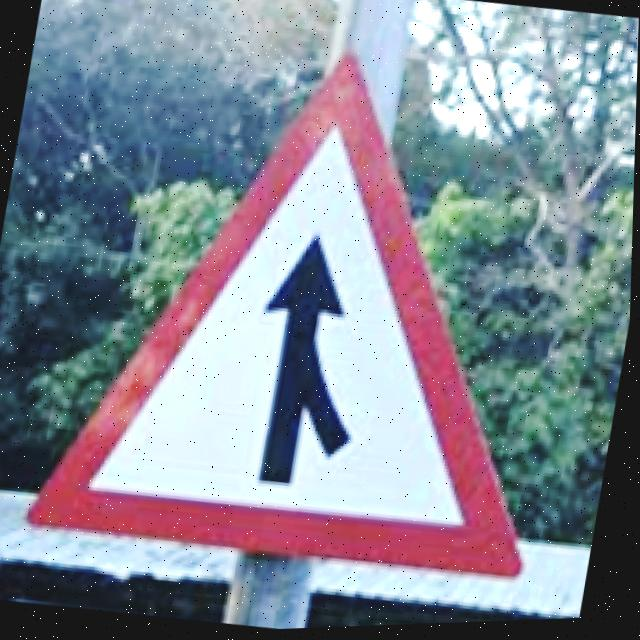rightmerge: (29, 52, 530, 585)
